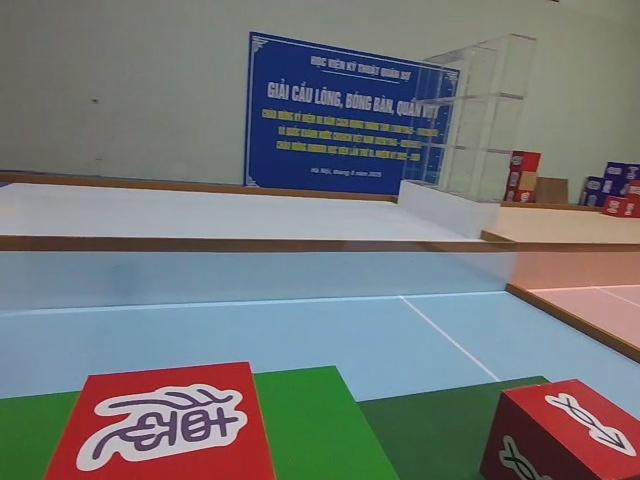R2 Fake: (43, 357, 279, 480)
R2 Real: (476, 374, 640, 480)
